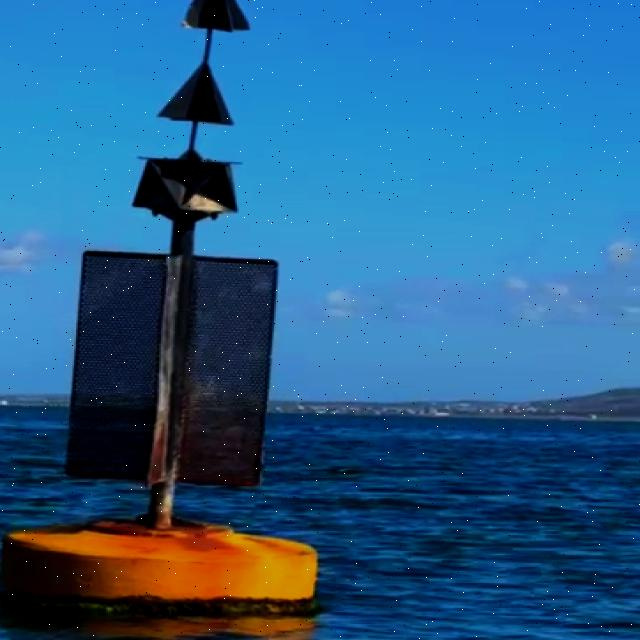marque: (2, 1, 316, 621)
